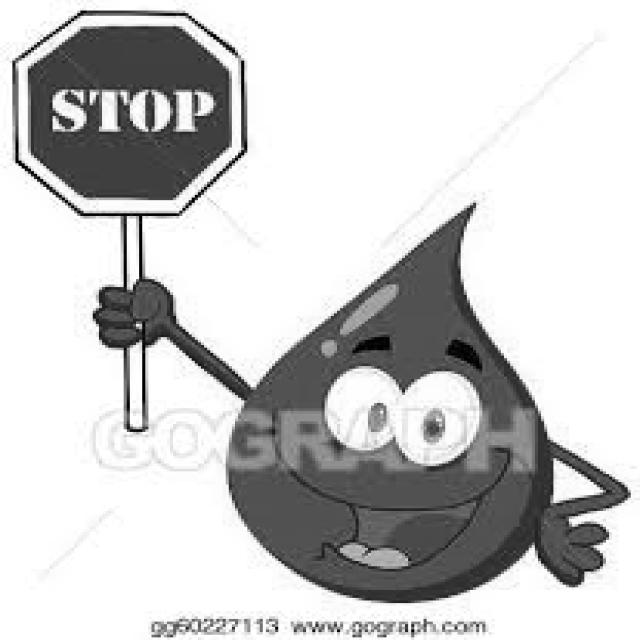stop sign: (13, 12, 249, 218)
